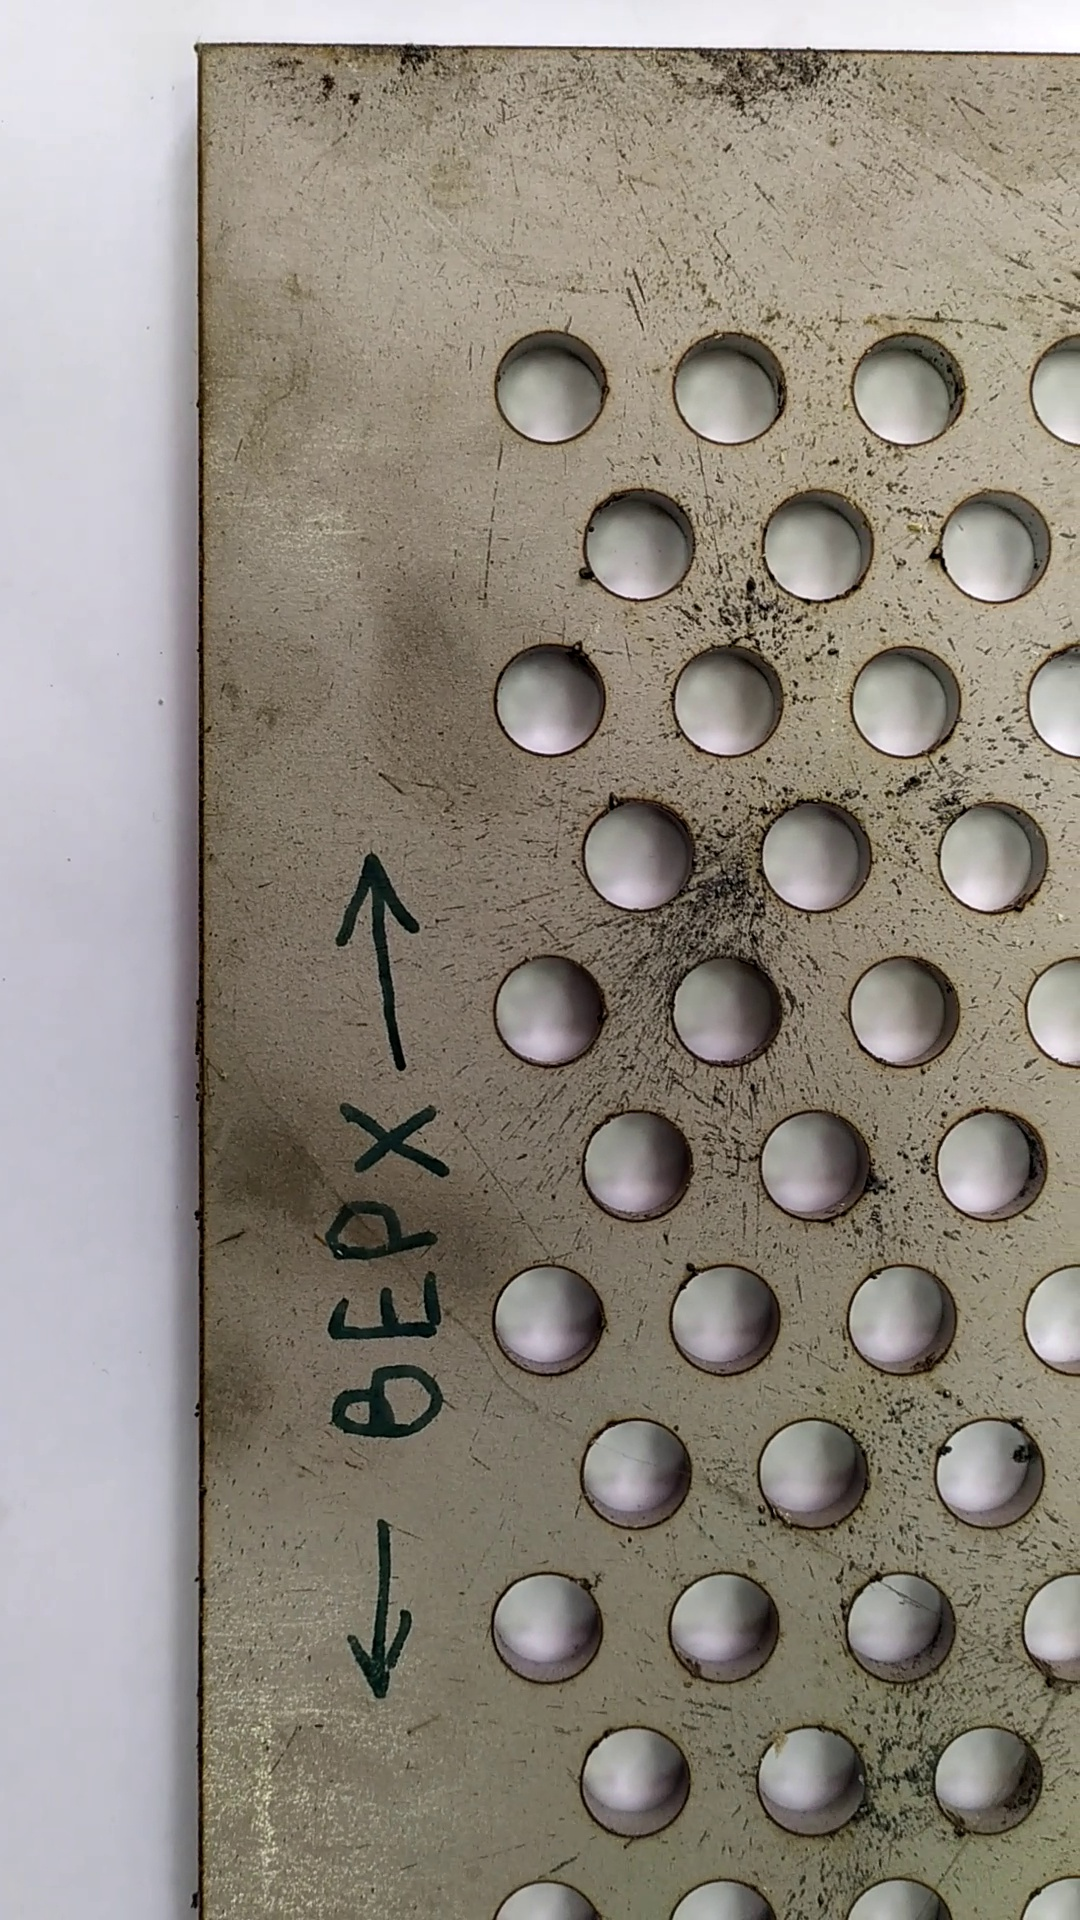Hole: (477, 319, 632, 456), (653, 944, 789, 1087), (837, 948, 981, 1079), (843, 322, 981, 456), (564, 1408, 705, 1540), (657, 1254, 798, 1385), (749, 1102, 891, 1230), (481, 1254, 618, 1385), (832, 1258, 973, 1385), (564, 1720, 700, 1850), (487, 948, 624, 1077), (922, 1717, 1062, 1844), (661, 319, 794, 450), (485, 634, 620, 764), (661, 636, 798, 762), (749, 1411, 876, 1548), (567, 793, 702, 919), (745, 1720, 880, 1846), (922, 1102, 1059, 1226), (568, 483, 705, 605), (752, 483, 889, 605), (928, 795, 1059, 922), (756, 789, 881, 920), (481, 1568, 616, 1691), (663, 1563, 787, 1695), (932, 483, 1059, 611), (845, 634, 971, 762), (571, 1105, 702, 1228), (840, 1563, 963, 1693), (926, 1415, 1054, 1538)
